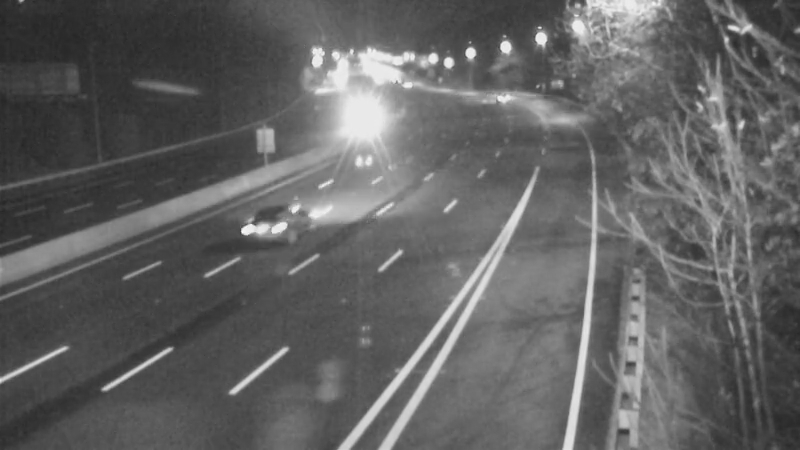vehicle: (227, 188, 307, 268), (481, 72, 531, 122), (321, 103, 371, 153)
